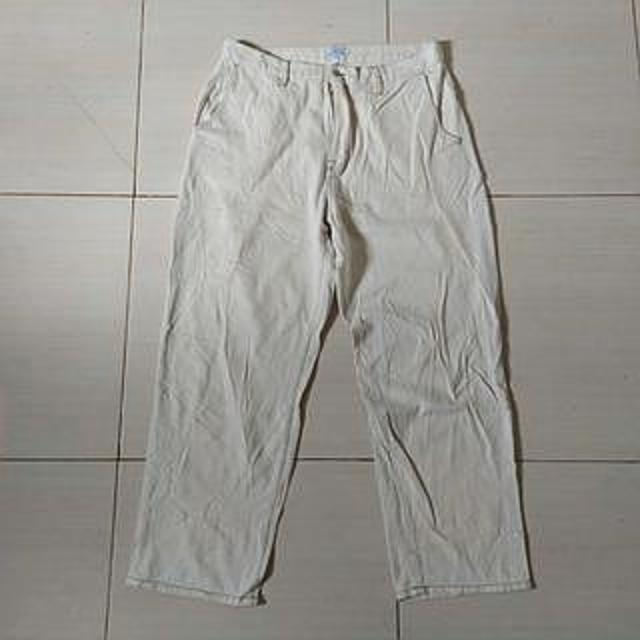TROUSER: (114, 30, 556, 615)
